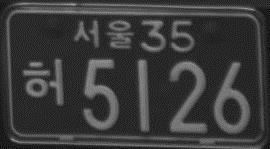1: (133, 58, 154, 134)
2: (166, 60, 211, 133)
3: (140, 18, 167, 52)
5: (80, 56, 121, 132), (170, 19, 194, 52)
6: (214, 59, 253, 135)
서울_O: (72, 18, 134, 51)
허: (21, 56, 66, 106)
